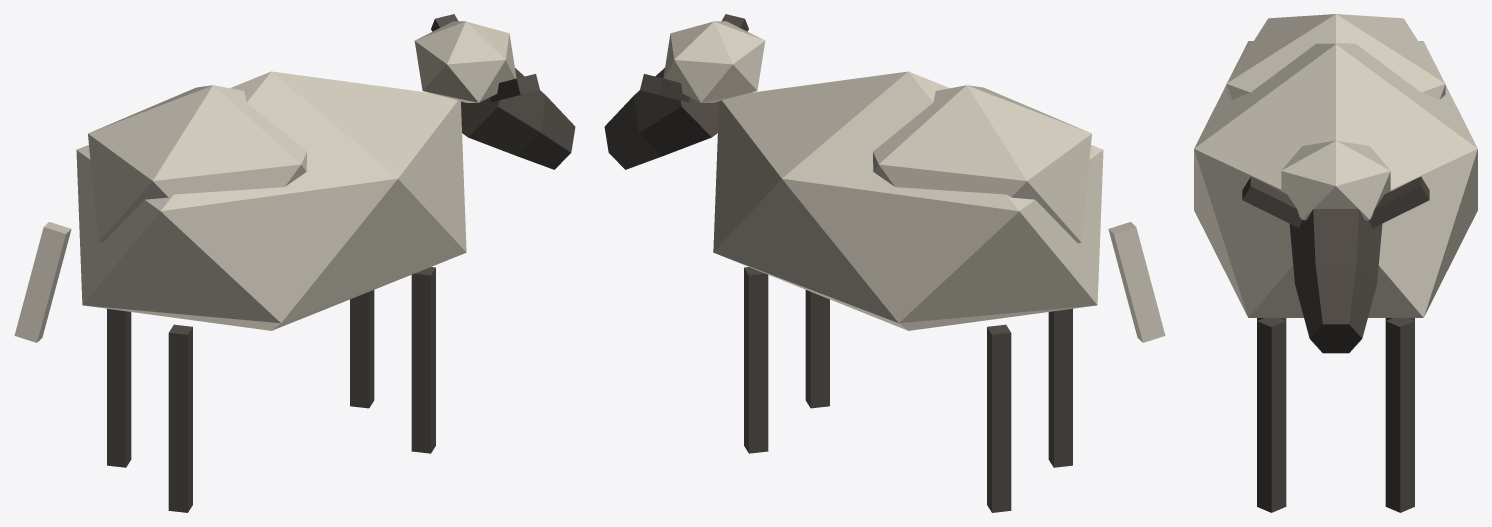
Rendered from sheep.glb.
The picture shows the model from 3 angles, left to right: view 1: azimuth 30°, elevation 25°; view 2: azimuth 150°, elevation 25°; view 3: azimuth 270°, elevation 25°; orthographic projection. The views are drawn at different scales.
Visible parts, largest first — view 1: sheep; view 2: sheep; view 3: sheep.
Boxes of the visible parts, box(x1,y1,x2,y2) form: sheep: box(14, 14, 575, 512); sheep: box(604, 14, 1165, 512); sheep: box(1194, 14, 1477, 512).
Bounding box in the file's own units: 1.14 × 0.76 × 0.4849.
